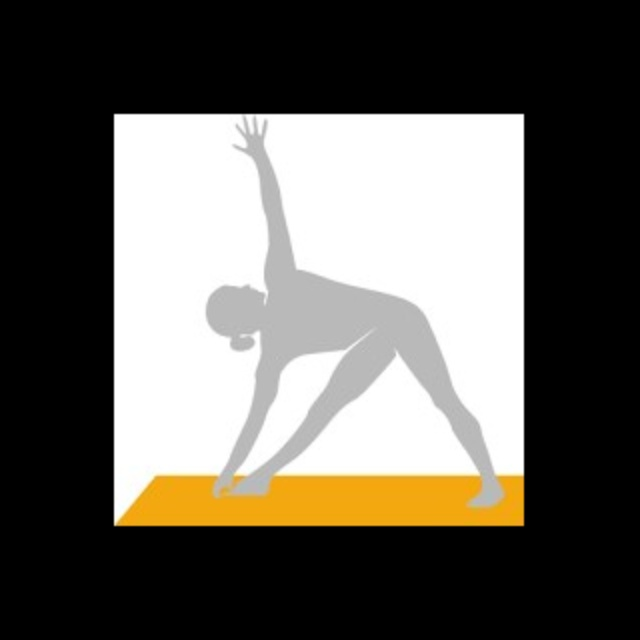Triangle_Pose: (188, 109, 512, 508)
